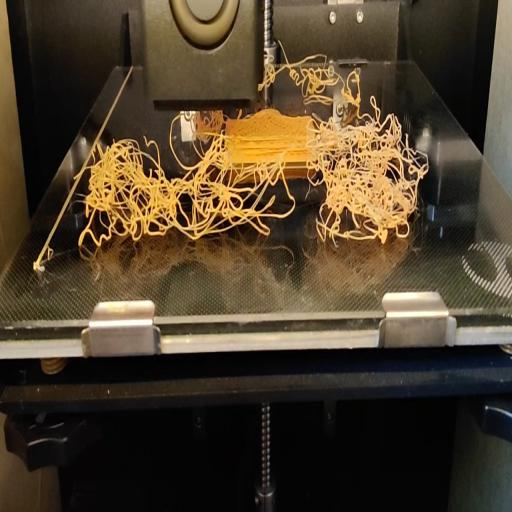spaghetti: (76, 112, 428, 244), (262, 32, 380, 112)
